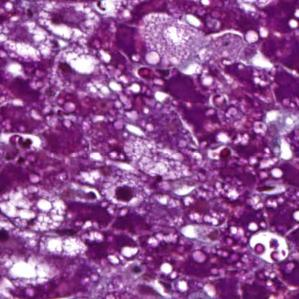ballooning: (2, 183, 69, 234)
